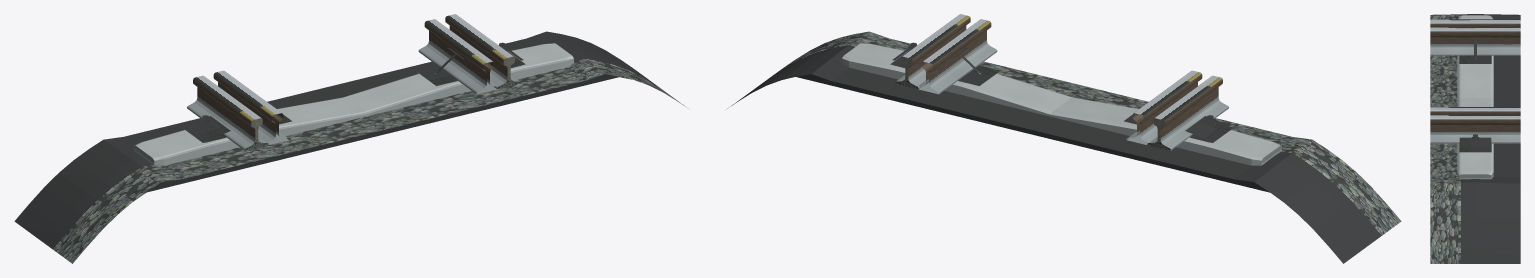
The model's file is outer_guard_mid.obj.
3 renders of one model, left to right at view 1: azimuth 30°, elevation 25°; view 2: azimuth 150°, elevation 25°; view 3: azimuth 270°, elevation 25°, orthographic. The views are drawn at different scales.
Parts seen in each view (by area): view 1: ballast, sleeper, outer_guard_right, rail_left, outer_guard_left, rail_right, fastener_left, outer_fastener_right; view 2: ballast, sleeper, outer_guard_right, rail_left, outer_guard_left, rail_right, fastener_left, outer_fastener_right; view 3: ballast, sleeper, outer_guard_left, rail_right, rail_left, outer_guard_right, fastener_right, outer_fastener_left, outer_fastener_right.
Part boxes in pixels (bbox=[...]): ballast: bbox=[14, 31, 688, 263]; sleeper: bbox=[134, 43, 573, 165]; outer_guard_right: bbox=[418, 19, 498, 94]; rail_left: bbox=[187, 75, 266, 150]; outer_guard_left: bbox=[213, 70, 289, 144]; rail_right: bbox=[445, 14, 519, 88]; fastener_left: bbox=[184, 115, 230, 142]; outer_fastener_right: bbox=[416, 47, 525, 85]; ballast: bbox=[727, 31, 1401, 263]; sleeper: bbox=[842, 43, 1281, 165]; outer_guard_right: bbox=[917, 19, 997, 94]; rail_left: bbox=[1149, 75, 1228, 150]; outer_guard_left: bbox=[1126, 70, 1202, 144]; rail_right: bbox=[896, 14, 970, 88]; fastener_left: bbox=[1185, 115, 1231, 142]; outer_fastener_right: bbox=[890, 47, 999, 85]; ballast: bbox=[1430, 14, 1520, 263]; sleeper: bbox=[1457, 15, 1493, 179]; outer_guard_left: bbox=[1430, 27, 1520, 55]; rail_right: bbox=[1430, 115, 1520, 143]; rail_left: bbox=[1430, 19, 1520, 27]; outer_guard_right: bbox=[1430, 107, 1520, 114]; fastener_right: bbox=[1459, 134, 1491, 149]; outer_fastener_left: bbox=[1459, 38, 1491, 63]; outer_fastener_right: bbox=[1459, 144, 1491, 152].
Size of the model in its own units: 3.7 by 0.5683 by 0.6.
